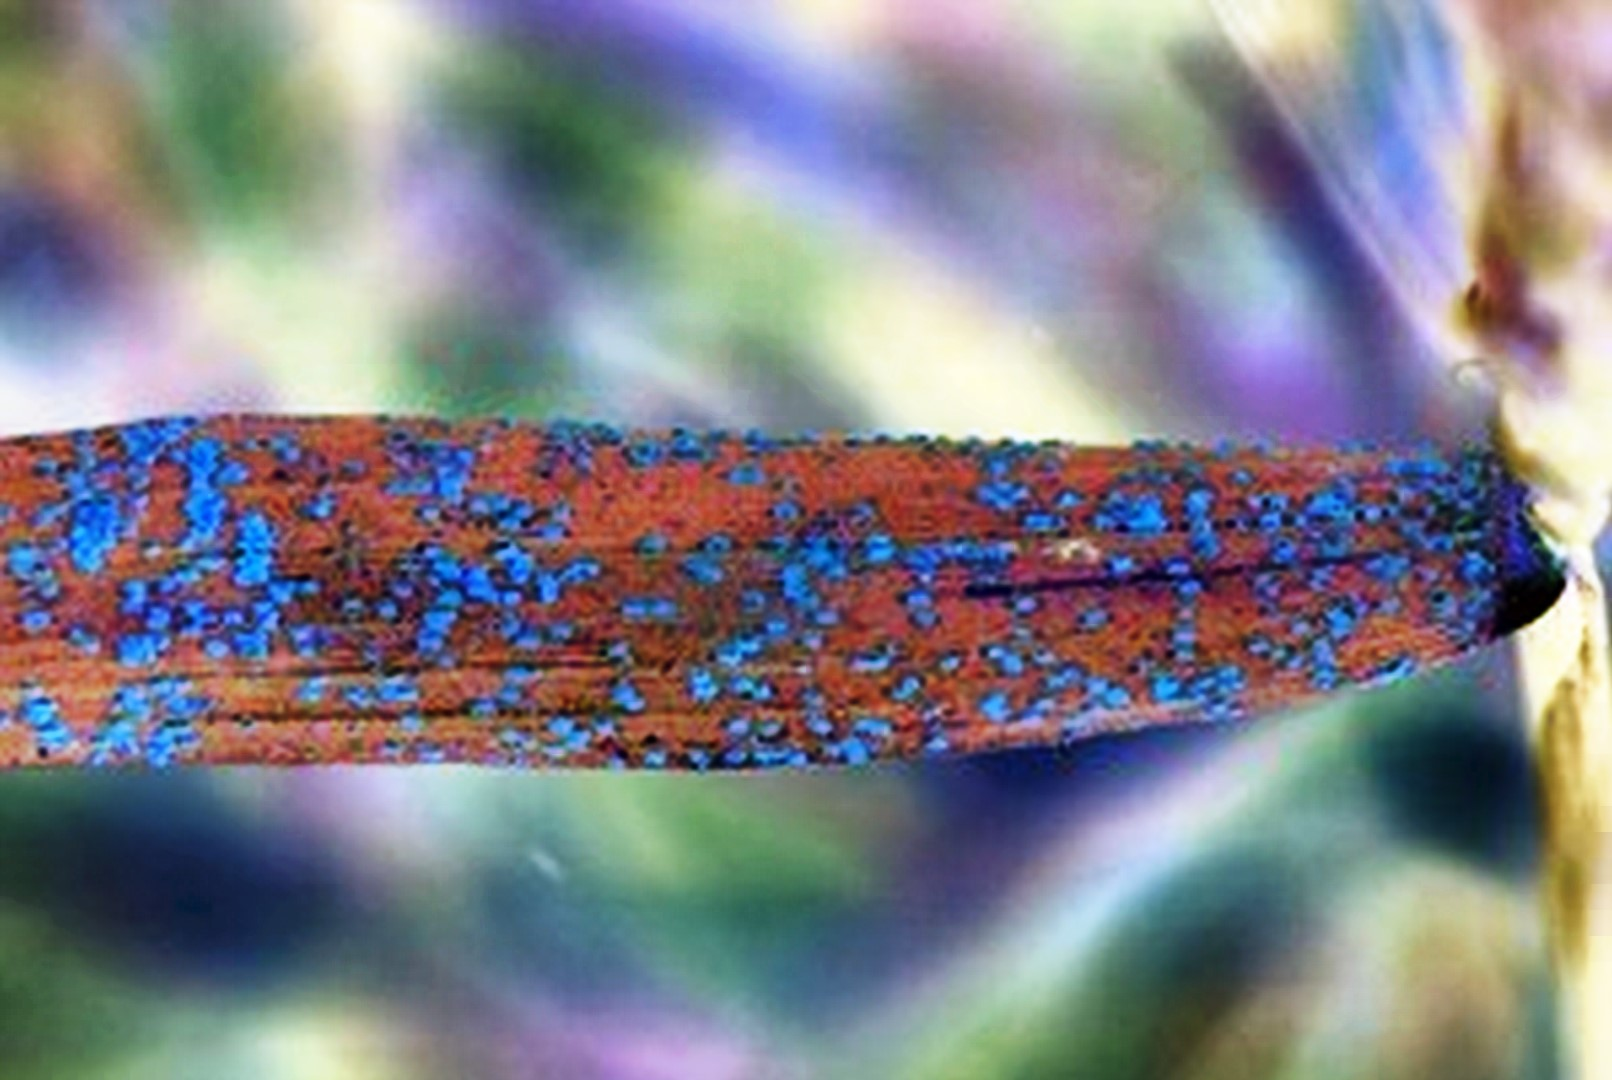Leaf Rust: (25, 371, 1419, 771)
